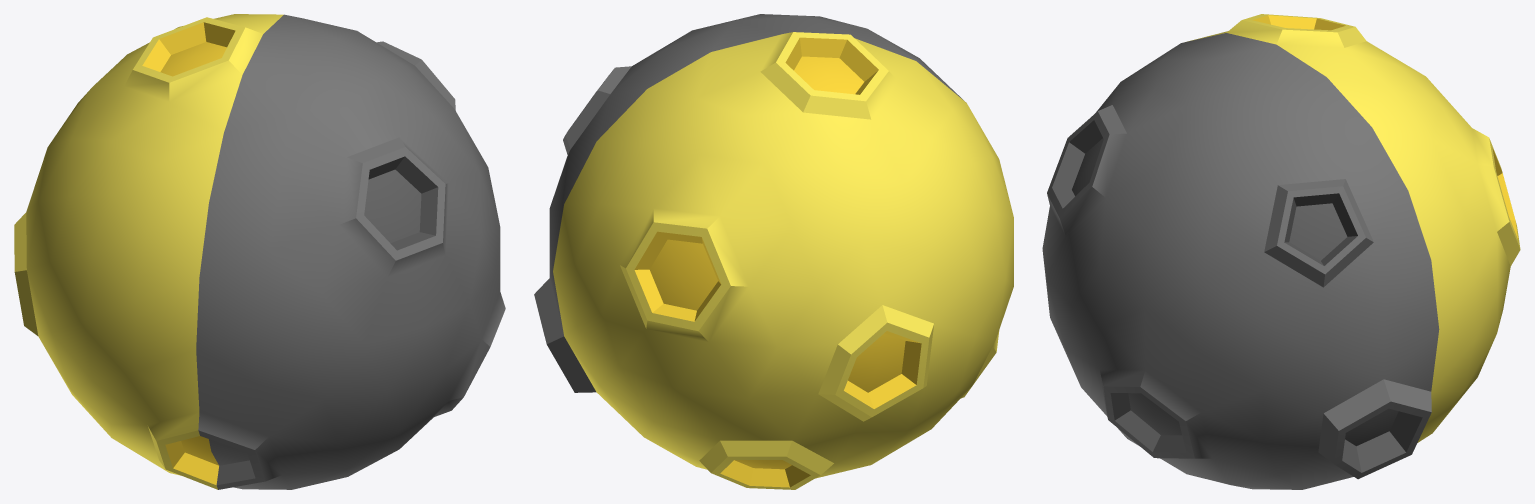
The model's file is waning_crescent_moon.glb.
The picture shows the model from 3 angles, left to right: view 1: azimuth 30°, elevation 25°; view 2: azimuth 150°, elevation 25°; view 3: azimuth 270°, elevation 25°; orthographic projection. The views are drawn at different scales.
Visible parts, largest first — view 1: Icosphere.007; view 2: Icosphere.007; view 3: Icosphere.007.
Part boxes in pixels (left/top/right/bottom): Icosphere.007: left=14, top=14, right=505, bottom=489; Icosphere.007: left=534, top=14, right=1013, bottom=489; Icosphere.007: left=1042, top=14, right=1520, bottom=489.
Size of the model in its own units: 1.97 by 2.04 by 2.03.
Materials: 1 (1 with a texture image).
